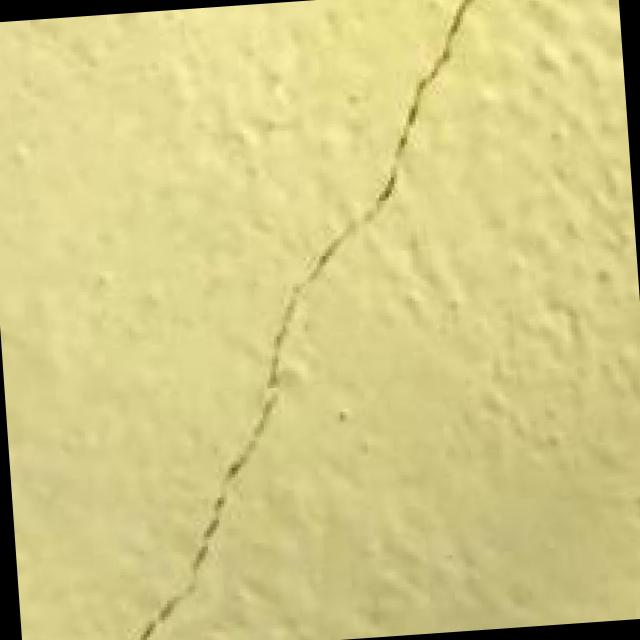crack: (48, 0, 533, 640)
